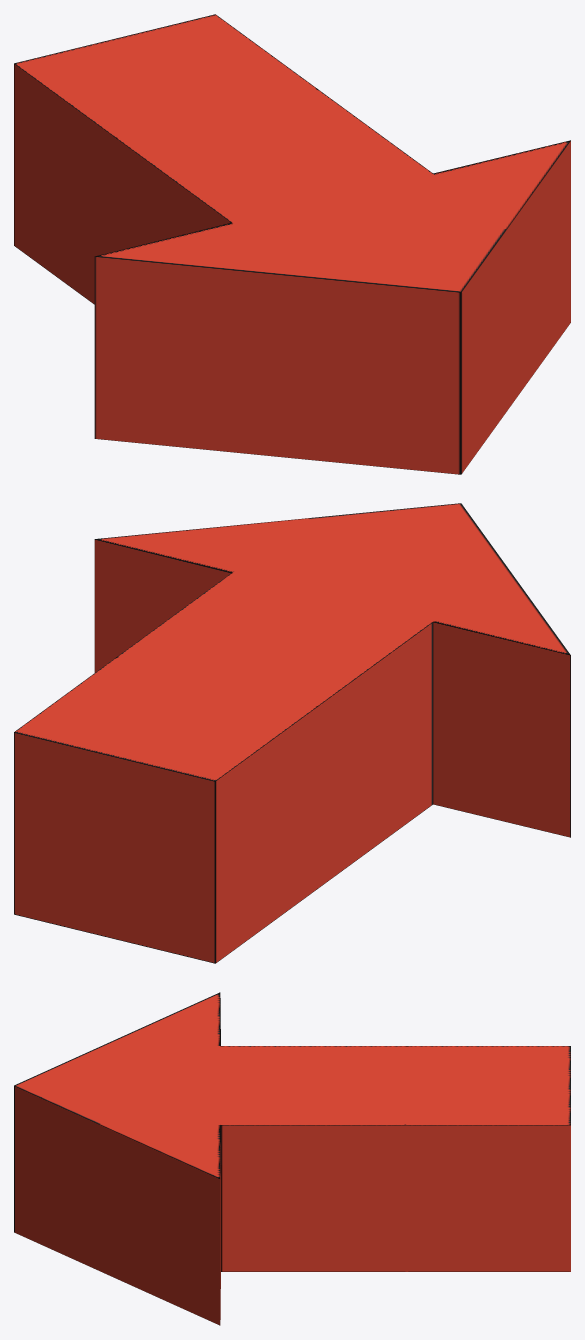
Rendered from arrow.obj.
3 renders of one model, top to bottom at view 1: azimuth 30°, elevation 25°; view 2: azimuth 150°, elevation 25°; view 3: azimuth 270°, elevation 25°, orthographic. The views are drawn at different scales.
Parts seen in each view (by area): view 1: Cube; view 2: Cube; view 3: Cube.
Boxes of the visible parts, <box> form: Cube: <box>14,14,570,474</box>; Cube: <box>14,503,570,963</box>; Cube: <box>14,992,570,1325</box>.
Size of the model in its own units: 1.19 by 0.4352 by 1.5.
